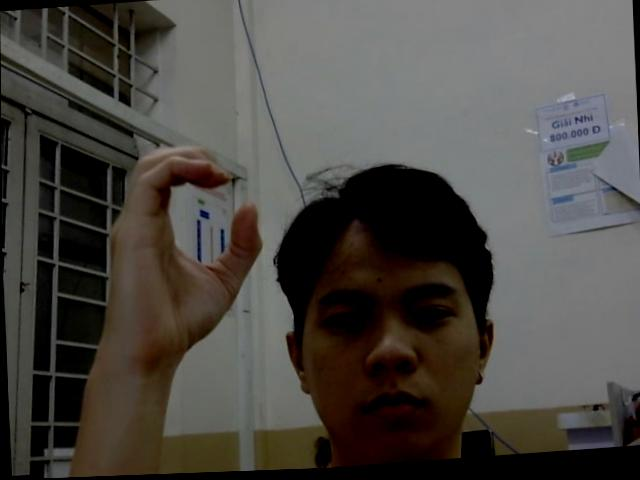C: (103, 140, 266, 365)
